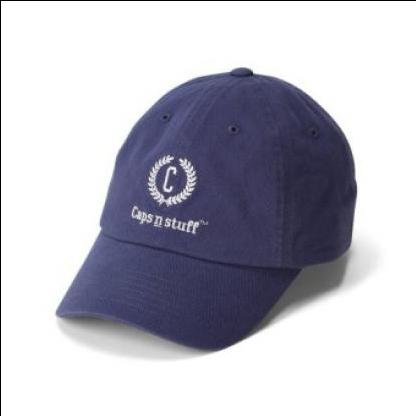cap: (43, 57, 367, 358)
